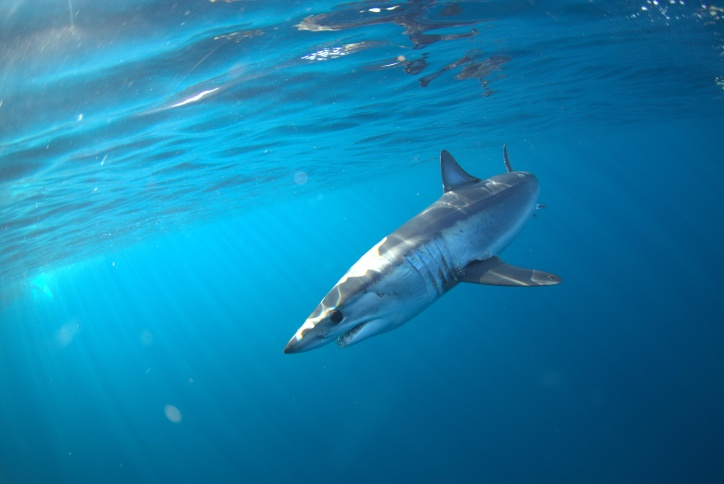Mako: (280, 134, 566, 371)
